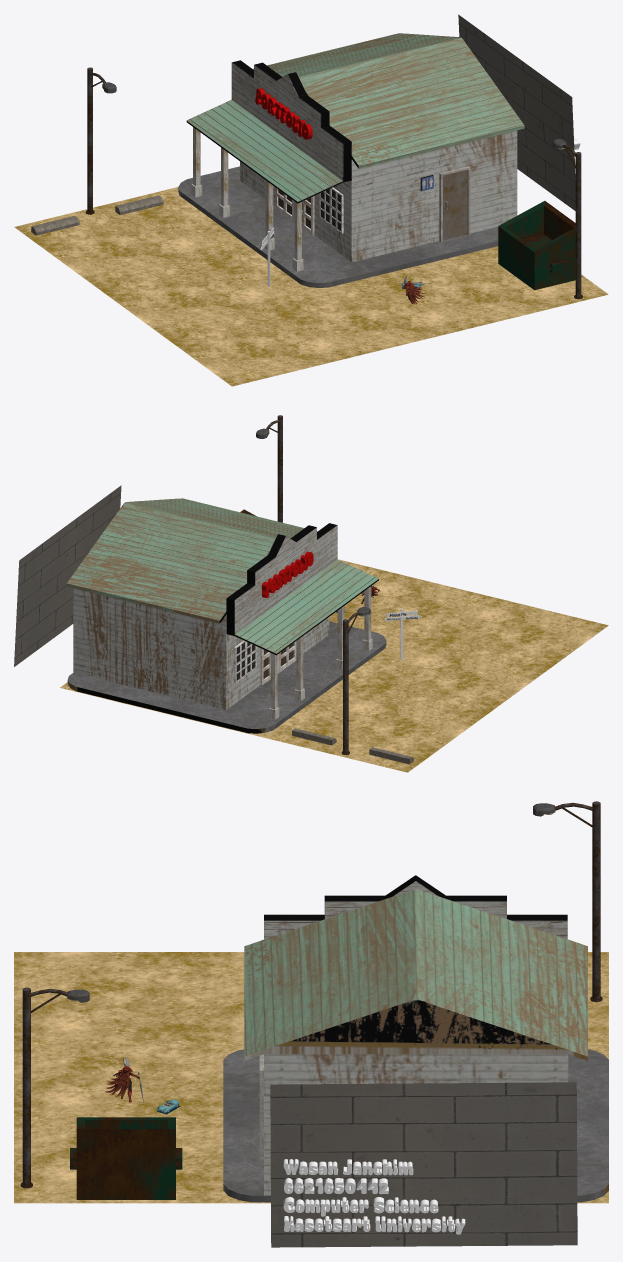
The model's file is store_scene.gltf.
3 views of the same model, one above another, from view 1: azimuth 30°, elevation 25°; view 2: azimuth 150°, elevation 25°; view 3: azimuth 270°, elevation 25° (orthographic). The views are drawn at different scales.
Parts seen in each view (by area): view 1: Ground, Store_Base_Body, Front_Store, Plane, Dumbster, Bathroom_Door, Base_Pole, Text, Base_Pole1, Wooden_Support_Beams2, Wooden_Support_Beams, Wooden_Support_Beams1 (+3 smaller); view 2: Store_Base_Body, Ground, Front_Store, Plane, Text, Base_Pole1, Base_Pole, Wooden_Support_Beams, Wooden_Support_Beams1, Wooden_Support_Beams2; view 3: Store_Base_Body, Ground, Plane, Dumbster, Text.001, Front_Store, Base_Pole, Base_Pole1.
Part boxes in pixels (x1,y1,x2,y2): Ground: [14, 187, 608, 386]; Store_Base_Body: [178, 33, 524, 287]; Front_Store: [186, 60, 351, 203]; Plane: [458, 14, 575, 210]; Dumbster: [498, 201, 575, 290]; Bathroom_Door: [439, 166, 470, 241]; Base_Pole: [574, 152, 582, 299]; Text: [255, 88, 312, 139]; Base_Pole1: [85, 67, 94, 214]; Wooden_Support_Beams2: [292, 201, 303, 271]; Wooden_Support_Beams: [191, 127, 202, 197]; Wooden_Support_Beams1: [219, 147, 230, 217]; Store_Base_Body: [66, 498, 386, 733]; Ground: [60, 559, 608, 772]; Front_Store: [226, 523, 378, 655]; Plane: [14, 485, 121, 666]; Text: [261, 551, 313, 597]; Base_Pole1: [341, 619, 349, 754]; Base_Pole: [277, 415, 282, 522]; Wooden_Support_Beams: [269, 653, 279, 719]; Wooden_Support_Beams1: [294, 636, 304, 700]; Wooden_Support_Beams2: [362, 586, 372, 651]; Store_Base_Body: [223, 889, 608, 1202]; Ground: [14, 952, 608, 1203]; Plane: [270, 1082, 577, 1247]; Dumbster: [70, 1117, 182, 1199]; Text.001: [283, 1159, 465, 1234]; Front_Store: [264, 875, 567, 939]; Base_Pole: [20, 987, 32, 1188]; Base_Pole1: [590, 801, 602, 1002].
Size of the model in its own units: 28.43 by 9.62 by 23.99.
21 materials, 14 textured.
